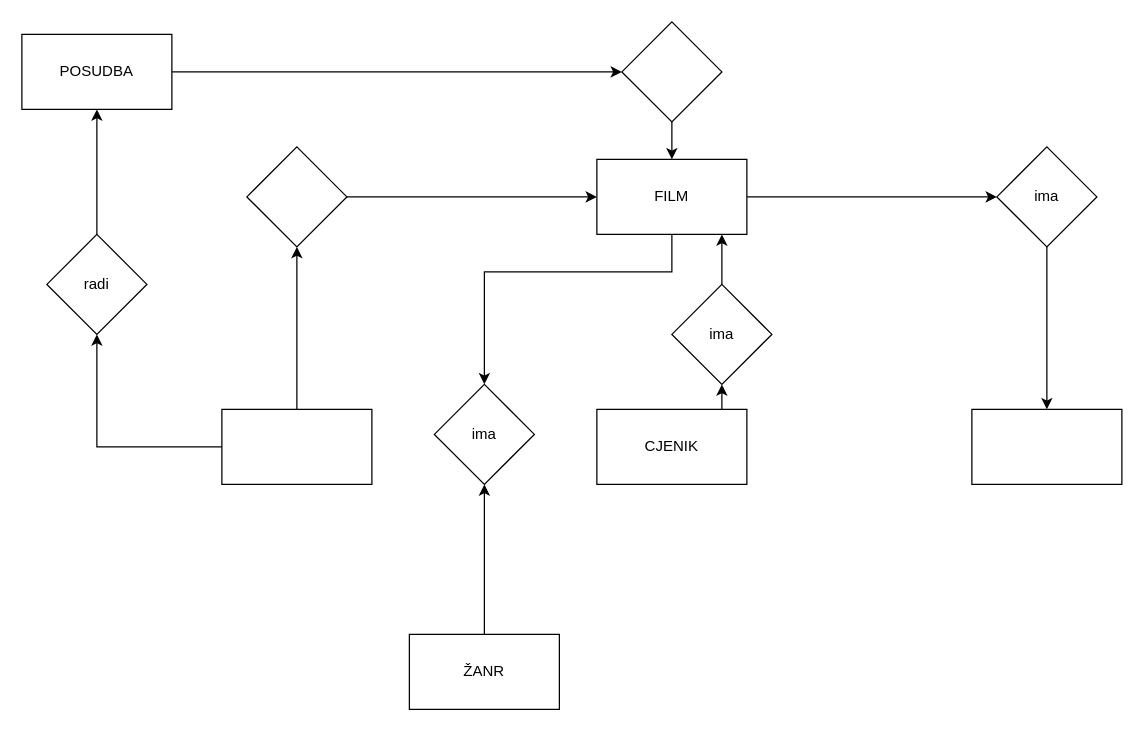
Image size: 1144x731. Some labels were removed from this diagram. Here are the shapes that lost their labels. From the top down, the box of each, then its label:
(621, 21, 722, 122): sadržava
(246, 146, 347, 247): posuđuje
(221, 408, 372, 484): ČLAN
(971, 408, 1122, 484): MEDIJ
